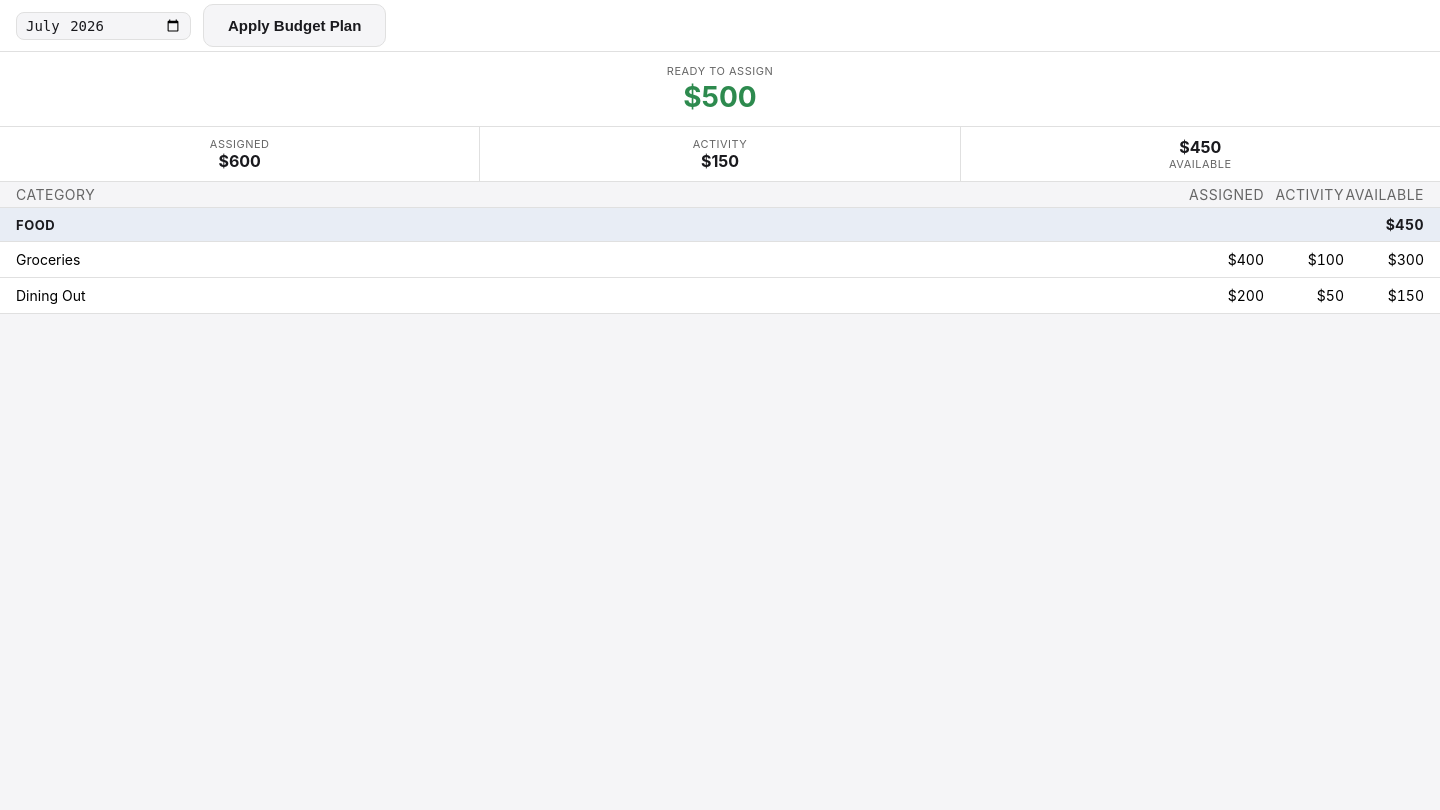
Test: Plan screen — move money › clicking Move Money opens the category picker
Step 1. Click the button "Groceries $400 $100 $300" → (48, 260), box [0,242,1439,278]
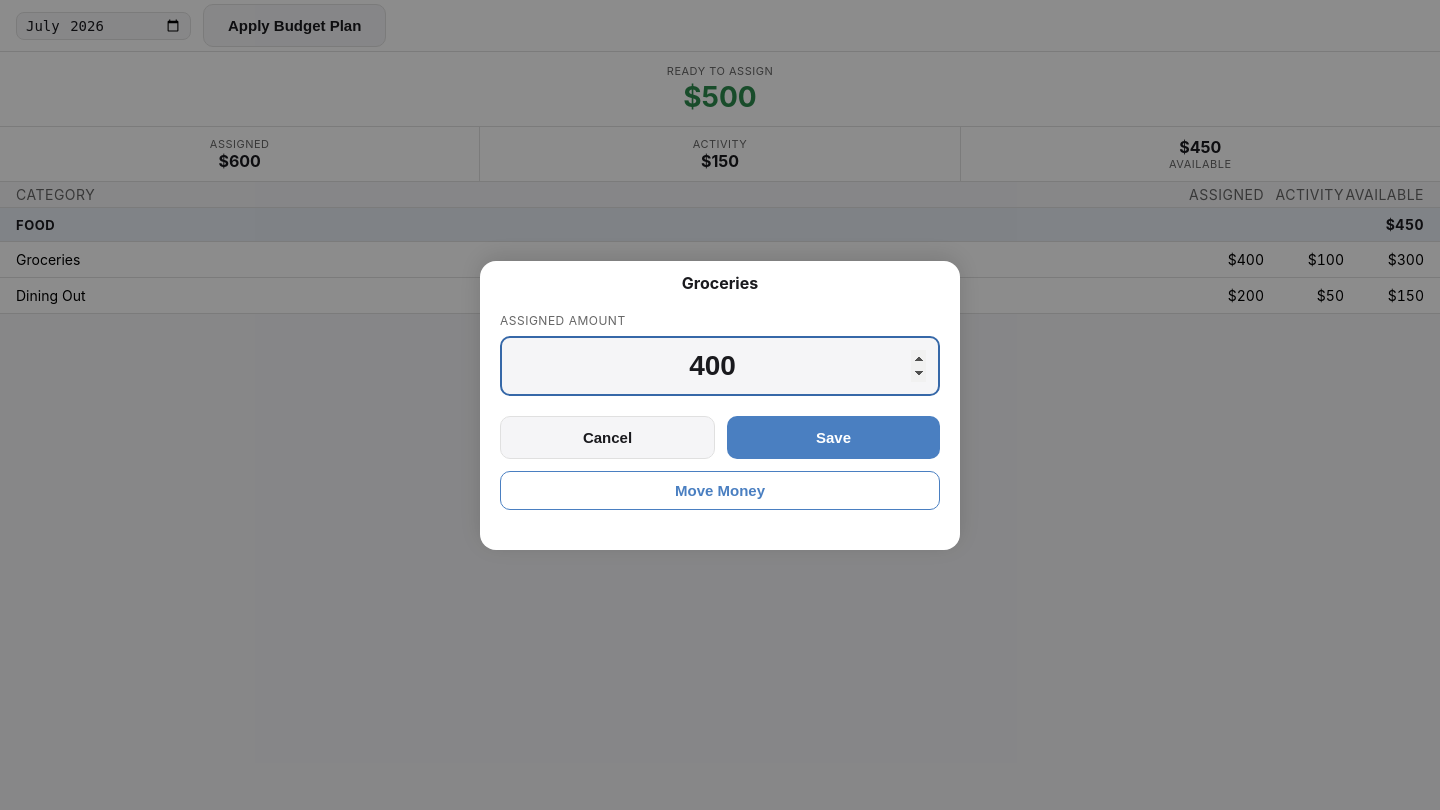
Step 2. Click the button "Move Money" → (720, 490), box [500,470,940,510]
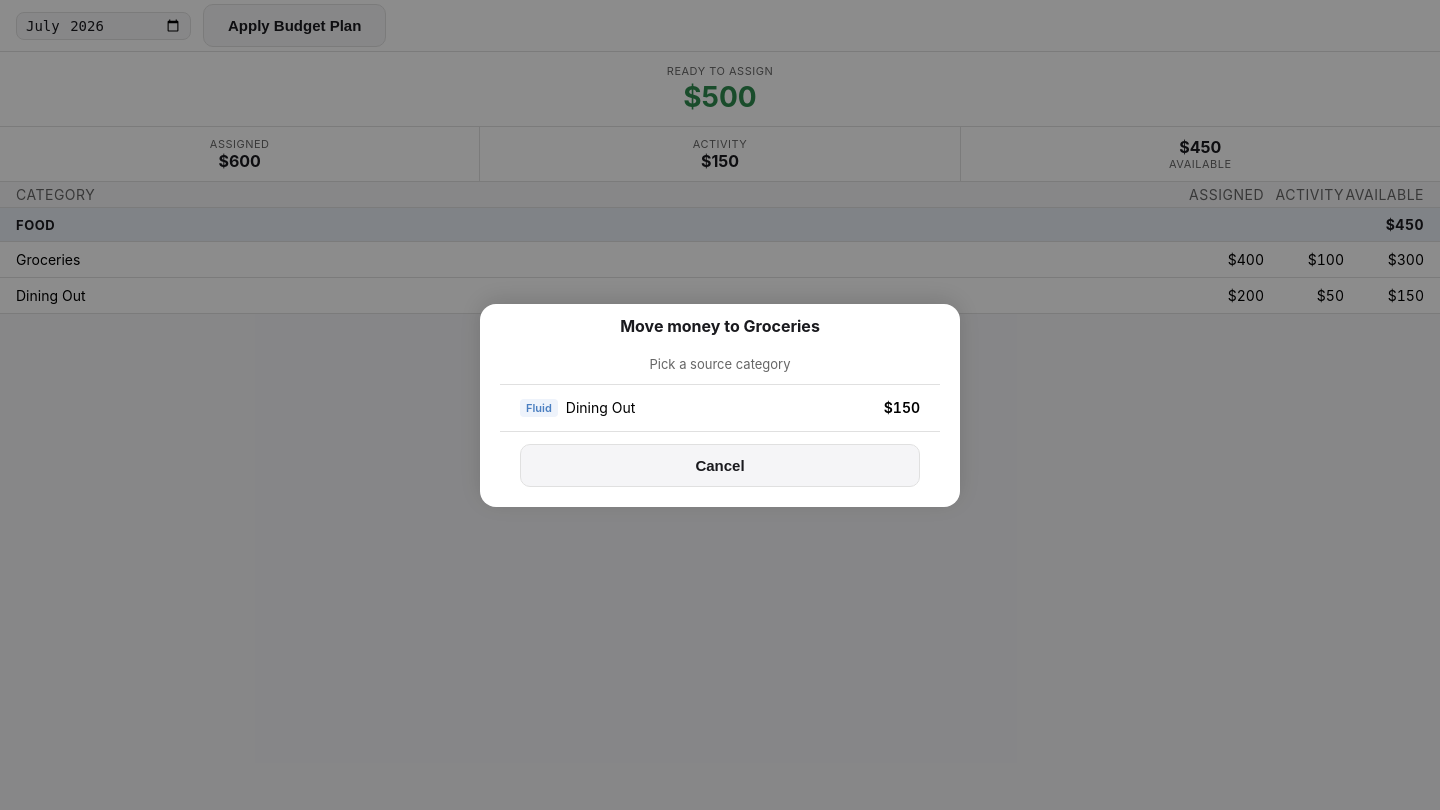
Expected: the text "Pick a source category" is shown, [500,356,940,384]
